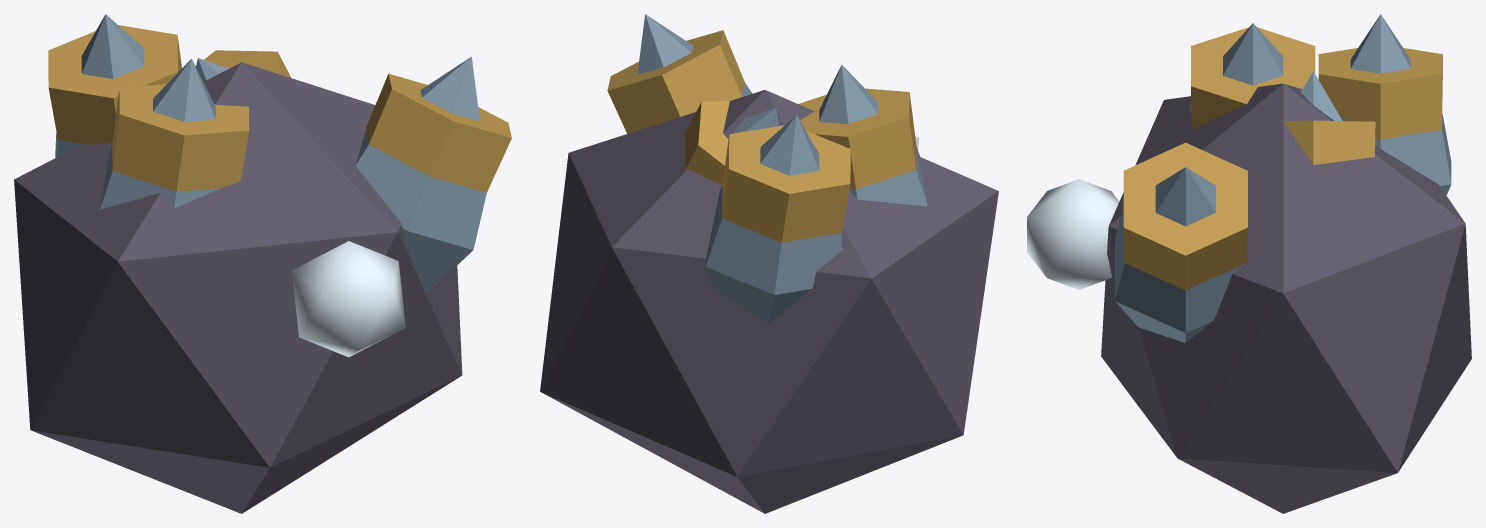
The model's file is enhance_stone.fbx.
3 renders of one model, left to right at view 1: azimuth 30°, elevation 25°; view 2: azimuth 150°, elevation 25°; view 3: azimuth 270°, elevation 25°, orthographic. The views are drawn at different scales.
Visible parts, largest first — view 1: enhance_stone; view 2: enhance_stone; view 3: enhance_stone.
Boxes of the visible parts, left/top/right/bottom form: enhance_stone: left=14, top=14, right=511, bottom=513; enhance_stone: left=540, top=14, right=998, bottom=513; enhance_stone: left=1027, top=14, right=1471, bottom=513.
Bounding box in the file's own units: 0.4142 × 0.4481 × 0.3924.
